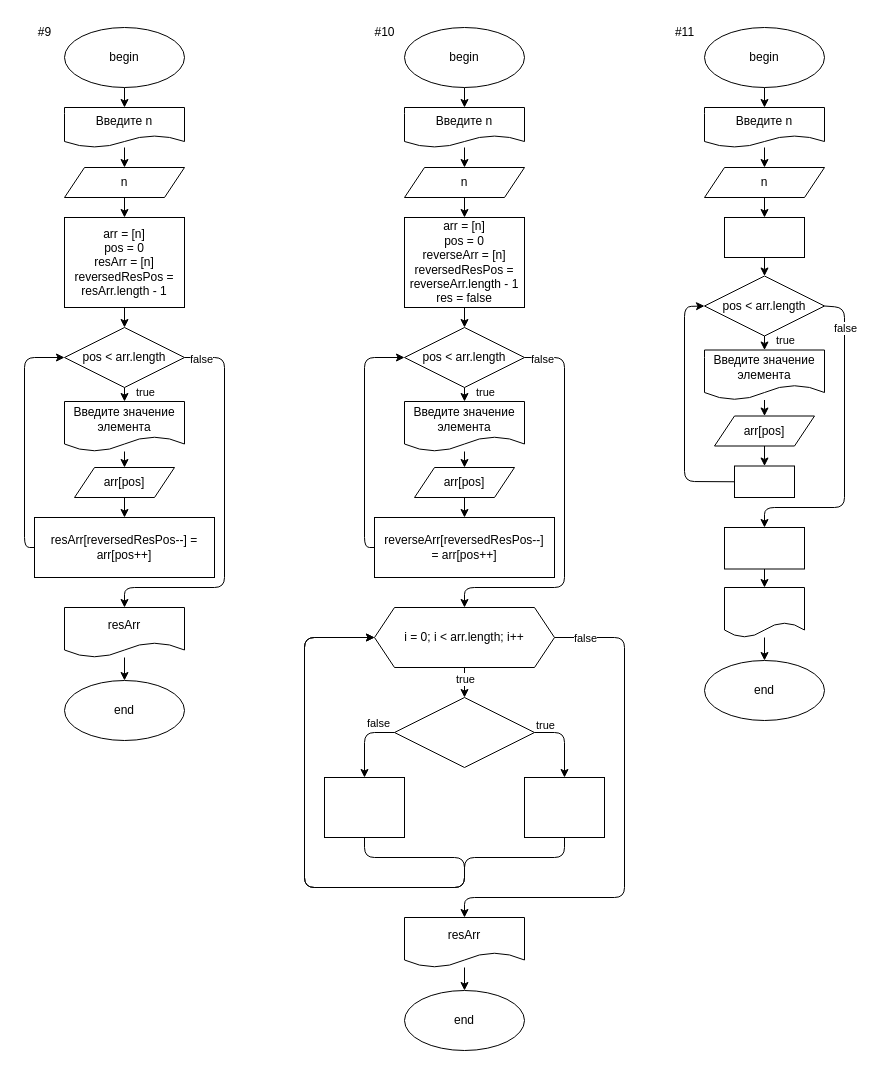
Some shapes in this 874 by 1068 pixel diagram are drawn without their labels. Here are the shapes that lost their labels. From the top down, the box of each, then its label:
(724, 216, 804, 258): arr = [n] pos = 0
(734, 465, 794, 498): pos++
(724, 526, 804, 569): arr.sorted()
(724, 586, 804, 638): arr
(394, 696, 534, 768): arr[i] == reverseArr[i]
(324, 776, 404, 838): res = false break
(524, 776, 604, 838): res = true
